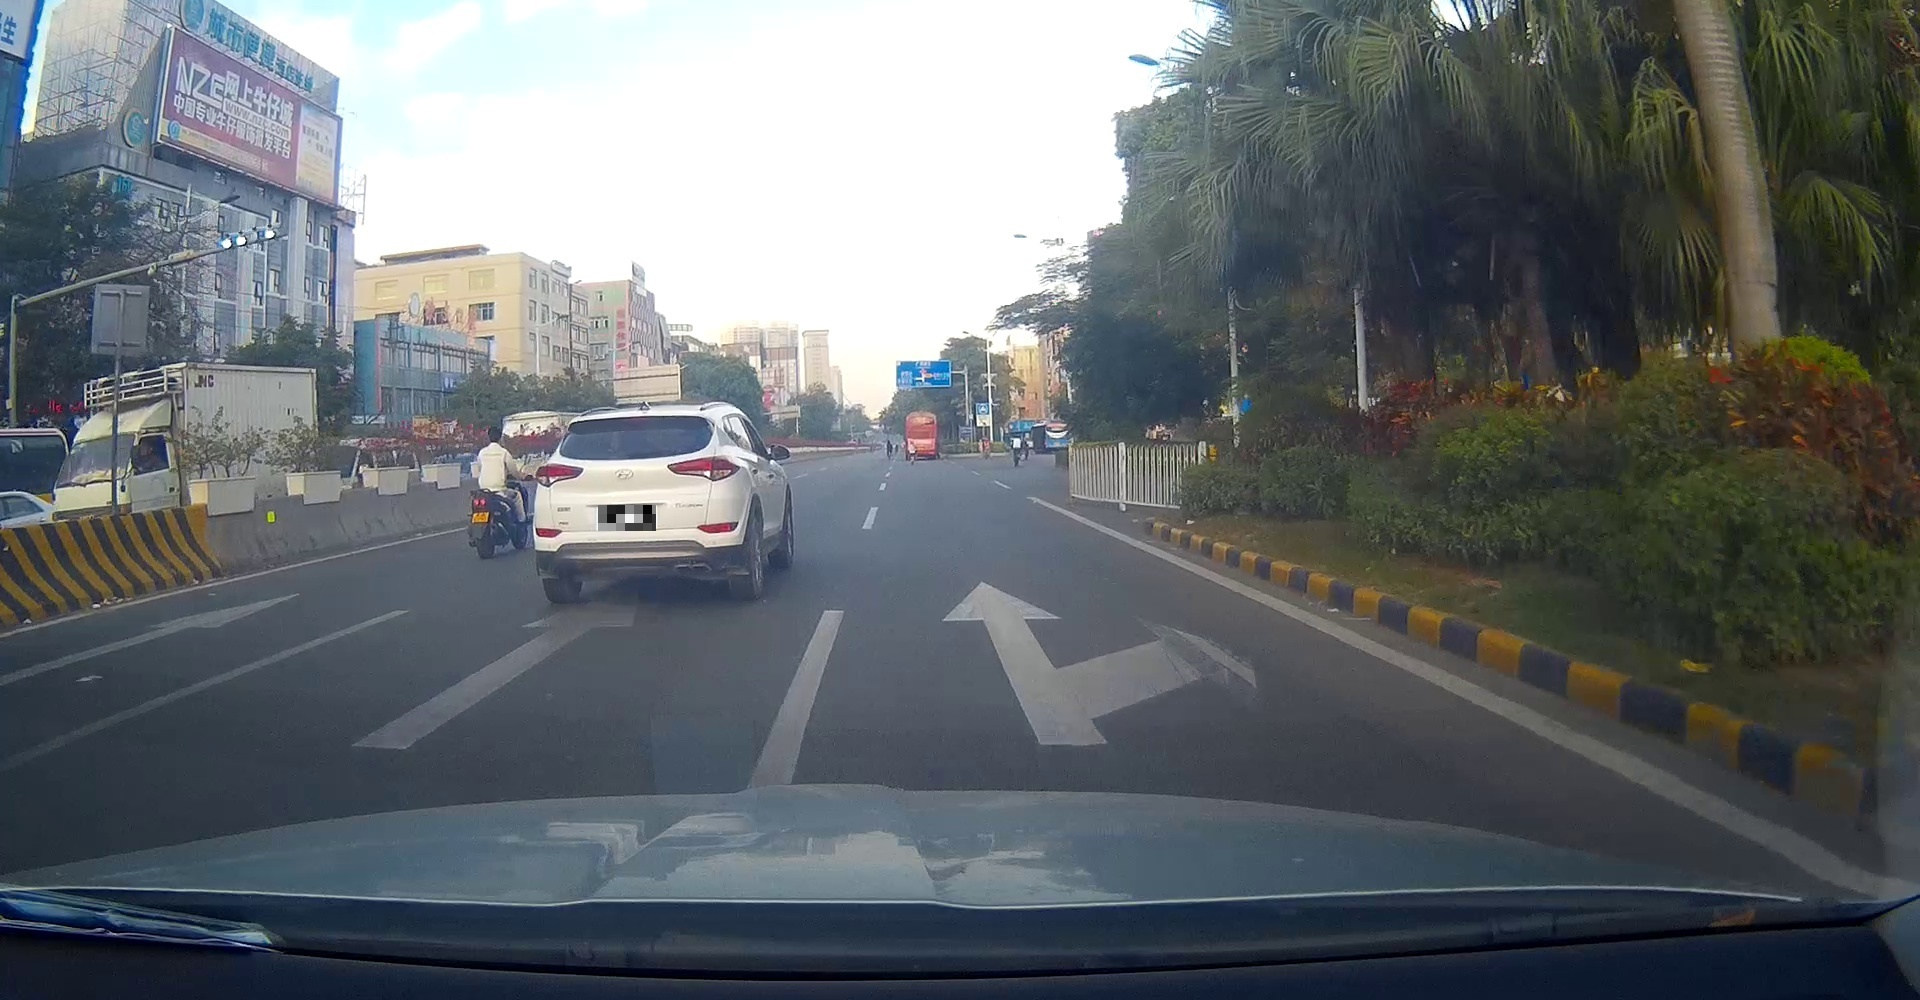L_light: (535, 461, 584, 487)
R_light: (665, 453, 740, 481)
T_light: (621, 418, 651, 423)
day-no: (535, 402, 739, 603)
plate_1: (598, 505, 657, 530)
